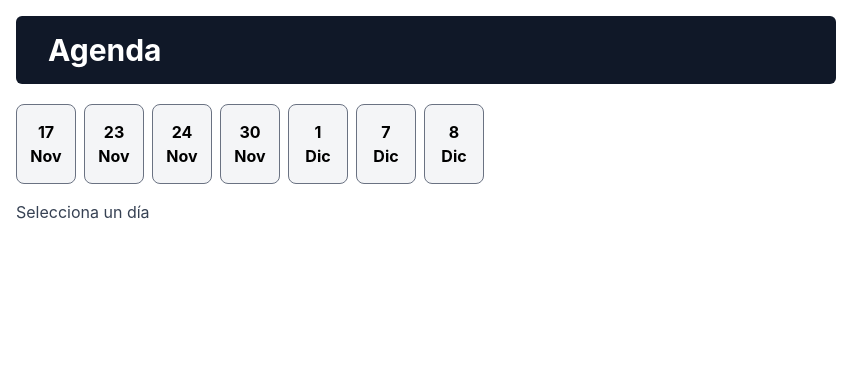
Test: NutricionistaAgenda › hace desaparecer el mensaje inicial al hacer clic en un día del calendario
The image size is (852, 369).
Click the button "17 Nov".
click(46, 144)  # box [16, 104, 76, 184]
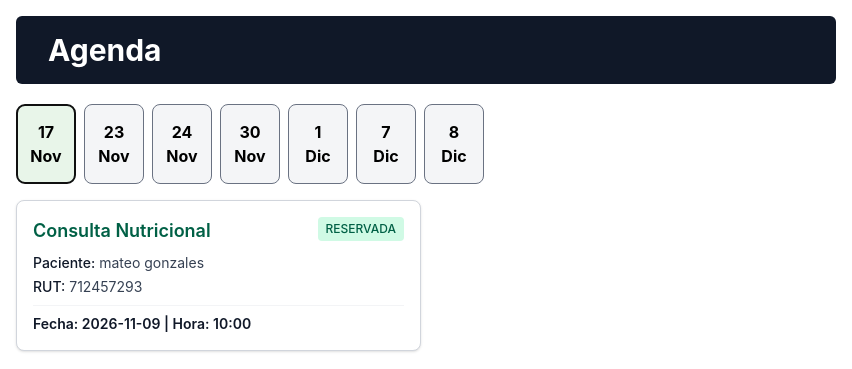
Now the text "Selecciona un día" is gone
